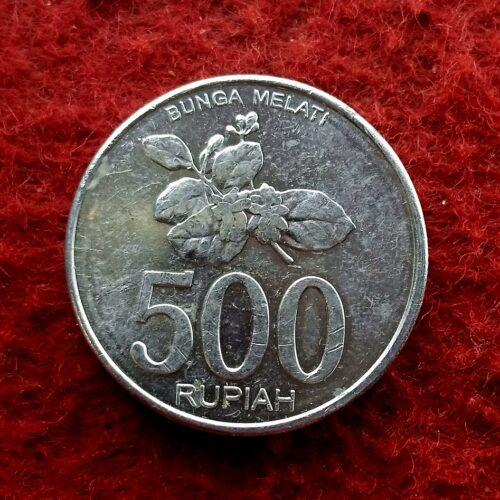coin_500_e2003: (62, 71, 435, 441)
